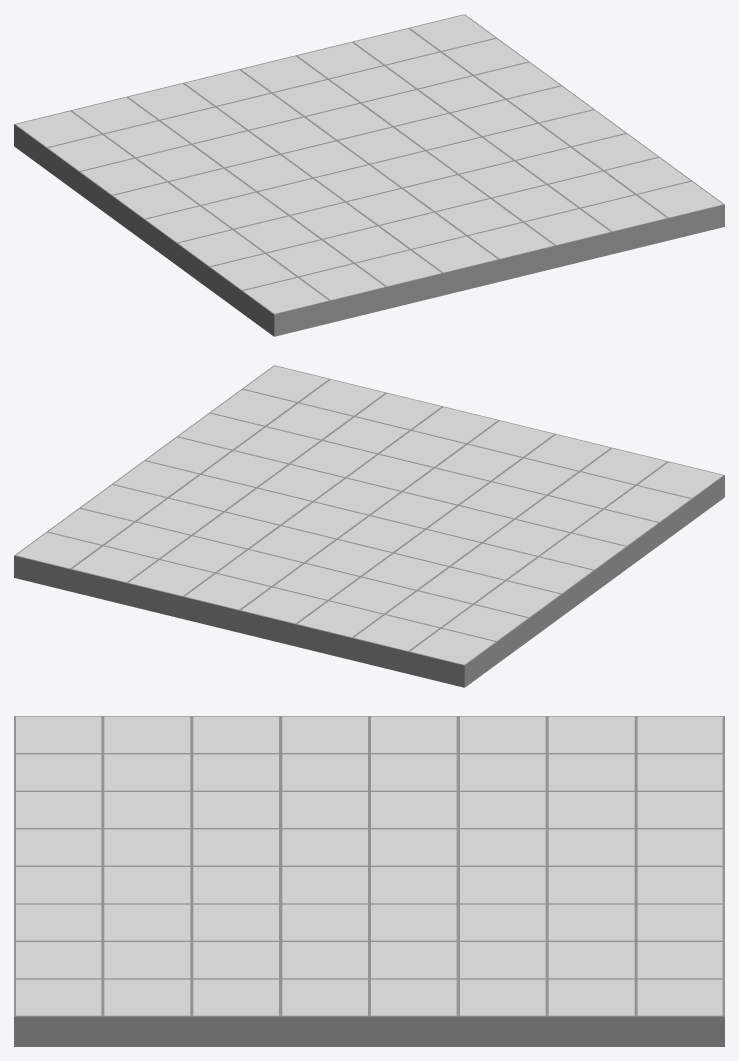
The model's file is floor_office_opt3.fbx.
3 renders of one model, top to bottom at view 1: azimuth 30°, elevation 25°; view 2: azimuth 150°, elevation 25°; view 3: azimuth 270°, elevation 25°, orthographic. The views are drawn at different scales.
Visible parts, largest first — view 1: Floor_08; view 2: Floor_08; view 3: Floor_08.
Boxes of the visible parts, x1,y1,x2,y2 form: Floor_08: (14,14,724,336); Floor_08: (14,365,724,687); Floor_08: (14,716,724,1046).
Bounding box in the file's own units: 450 × 21.22 × 450.
